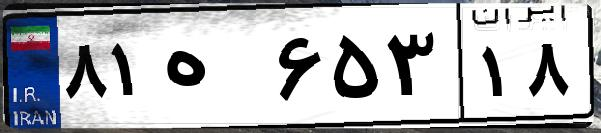1: (475, 38, 525, 113), (110, 28, 158, 98)
3: (385, 28, 445, 110)
5: (330, 28, 385, 110)
6: (270, 28, 330, 110)
8: (57, 26, 110, 100), (525, 38, 570, 115)
ه: (158, 20, 270, 120)
